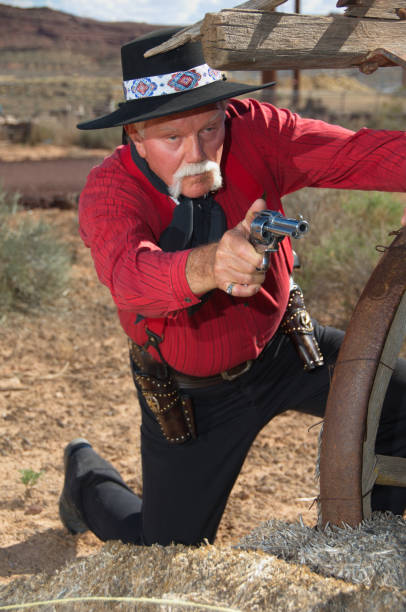gun: (250, 210, 311, 271)
